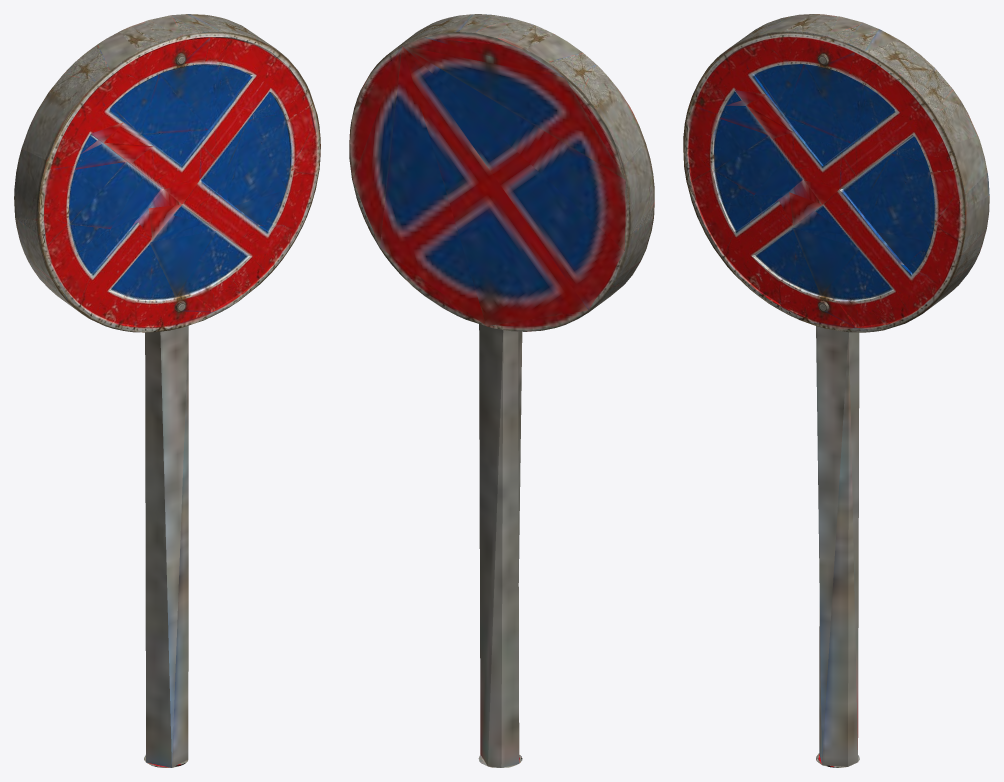
The model's file is Sign_No_Stopping_1500.glb.
The picture shows the model from 3 angles, left to right: view 1: azimuth 30°, elevation 25°; view 2: azimuth 150°, elevation 25°; view 3: azimuth 330°, elevation 25°; orthographic projection.
Visible parts, largest first — view 1: output_unwrapped; view 2: output_unwrapped; view 3: output_unwrapped.
Part boxes in pixels (box(x1,y1,x2,y2)): output_unwrapped: box(14, 14, 320, 767); output_unwrapped: box(349, 14, 654, 767); output_unwrapped: box(683, 14, 989, 767).
Bounding box in the file's own units: 1.01 × 2.5 × 0.1672.
Materials: 1 (1 with a texture image).
